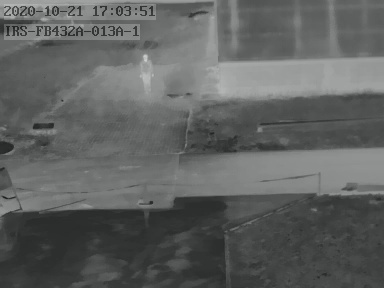person: (139, 53, 154, 94)
